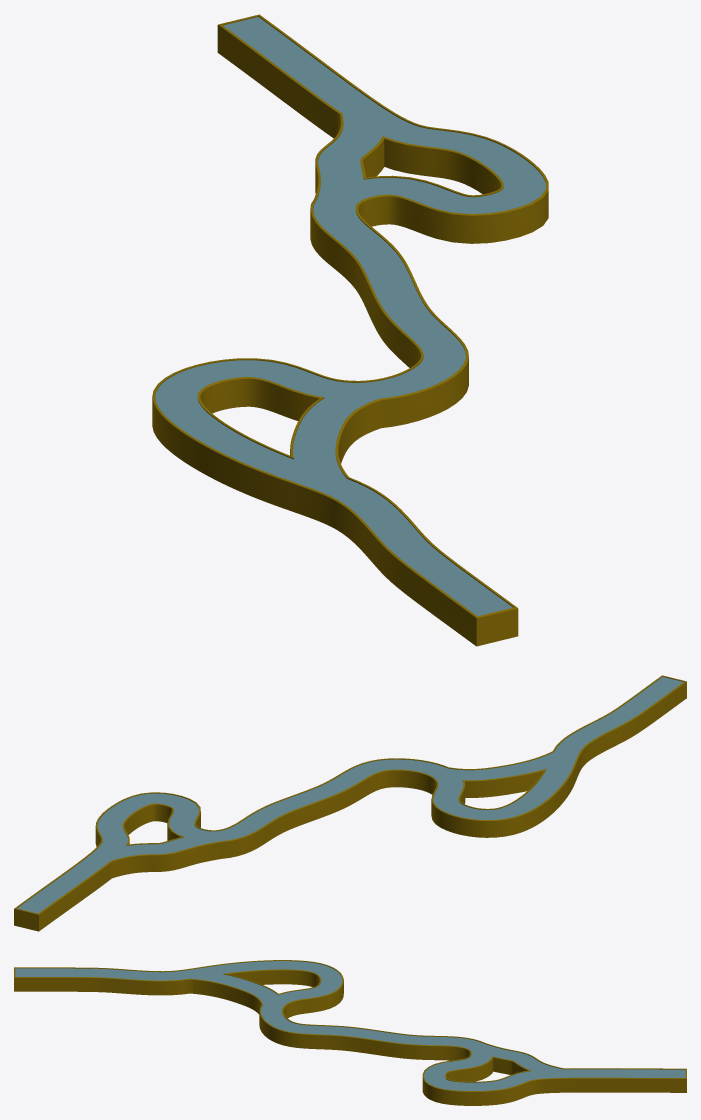
Rendered from yol1 (3).fbx.
3 views of the same model, one above another, from view 1: azimuth 30°, elevation 25°; view 2: azimuth 150°, elevation 25°; view 3: azimuth 270°, elevation 25° (orthographic). The views are drawn at different scales.
Visible parts, largest first — view 1: ic, dis; view 2: dis, ic; view 3: dis, ic.
Boxes of the visible parts, x1,y1,x2,y2 form: ic: [155, 17, 545, 616]; dis: [152, 14, 548, 646]; dis: [14, 675, 686, 931]; ic: [17, 677, 683, 913]; dis: [14, 960, 686, 1105]; ic: [15, 961, 685, 1090].
Bounding box in the file's own units: 1458 × 73.53 × 3146.
